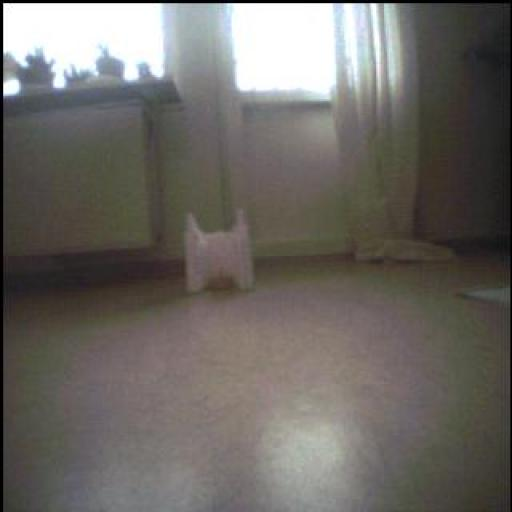Basket: (206, 267, 243, 295)
